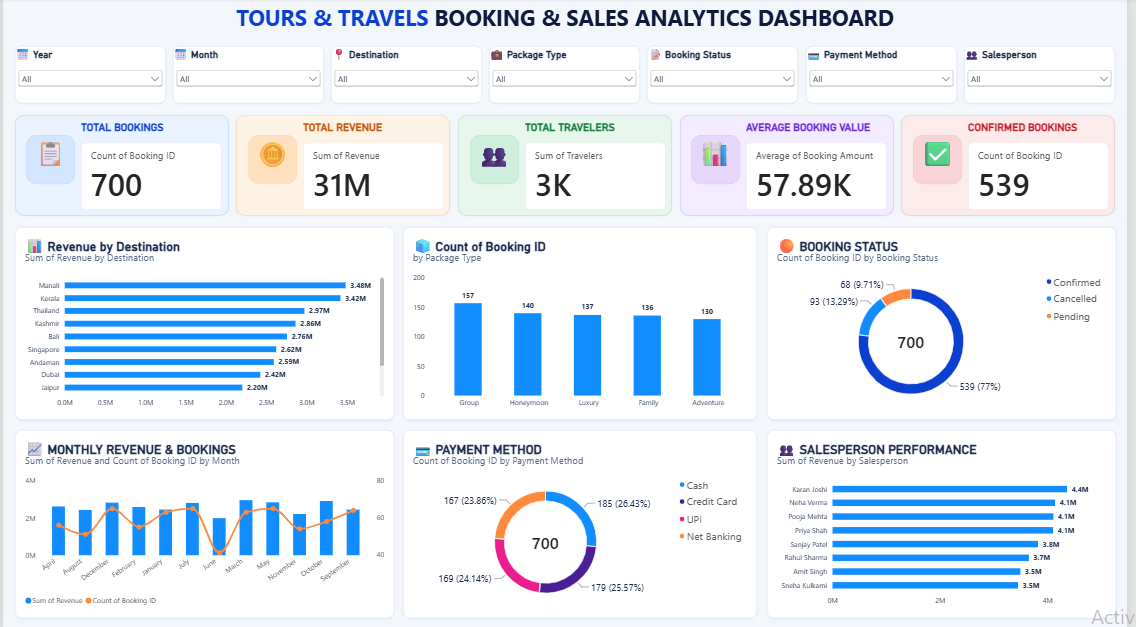

Layout of this report page (visuals, bound fields, positions):
{"tool":"powerbi","page":{"name":"Page 1","canvas":[1920,1080],"ordinal":0},"visuals":[{"type":"textbox","box":[20,8,1880,62],"z":1000},{"type":"textbox","box":[20,200,364.8,172],"z":2000},{"type":"textbox","box":[40,234,84,84],"z":2001},{"type":"textbox","box":[398.8,200,364.8,172],"z":2010},{"type":"textbox","box":[418.8,234,84,84],"z":2011},{"type":"textbox","box":[777.6,200,364.8,172],"z":2020},{"type":"textbox","box":[797.6,234,84,84],"z":2021},{"type":"textbox","box":[1156.4,200,364.8,172],"z":2030},{"type":"textbox","box":[1176.4,234,84,84],"z":2031},{"type":"textbox","box":[1535.2,200,364.8,172],"z":2040},{"type":"textbox","box":[1555.2,234,84,84],"z":2041},{"type":"cardVisual","title":"TOTAL BOOKINGS","fields":{"Data":["CountNonNull(Tours & Travels Dashboard.Booking ID)"]},"box":[134,210,240.8,152],"z":3000},{"type":"cardVisual","title":"TOTAL REVENUE","fields":{"Data":["Sum(Tours & Travels Dashboard.Revenue)"]},"box":[512.8,210,240.8,152],"z":3001},{"type":"cardVisual","title":"TOTAL TRAVELERS","fields":{"Data":["Sum(Tours & Travels Dashboard.Travelers)"]},"box":[891.6,210,240.8,152],"z":3002},{"type":"cardVisual","title":"AVERAGE BOOKING VALUE","fields":{"Data":["Avg(Tours & Travels Dashboard.Booking Amount)"]},"box":[1270.4,210,240.8,152],"z":3003},{"type":"cardVisual","title":"CONFIRMED BOOKINGS","fields":{"Data":["CountNonNull(Tours & Travels Dashboard.Booking ID)"]},"box":[1649.2,210,240.8,152],"z":3004},{"type":"clusteredBarChart","title":"📊  Revenue by Destination","fields":{"Category":["Tours & Travels Dashboard.Destination"],"Y":["Sum(Tours & Travels Dashboard.Revenue)"]},"box":[20,392,648,330],"z":4000},{"type":"clusteredColumnChart","title":"🧊  Count of Booking ID","fields":{"Category":["Tours & Travels Dashboard.Package Type"],"Y":["CountNonNull(Tours & Travels Dashboard.Booking ID)"]},"box":[684,392,605,330],"z":4001},{"type":"donutChart","title":"🟠  BOOKING STATUS","fields":{"Category":["Tours & Travels Dashboard.Booking Status"],"Y":["CountNonNull(Tours & Travels Dashboard.Booking ID)"]},"box":[1305,392,597,330],"z":4002},{"type":"lineClusteredColumnComboChart","title":"📈  MONTHLY REVENUE & BOOKINGS","fields":{"Category":["Tours & Travels Dashboard.Month"],"Y":["Sum(Tours & Travels Dashboard.Revenue)"],"Y2":["CountNonNull(Tours & Travels Dashboard.Booking ID)"]},"box":[20,738,648,322],"z":4003},{"type":"donutChart","title":"💳  PAYMENT METHOD","fields":{"Category":["Tours & Travels Dashboard.Payment Method"],"Y":["CountNonNull(Tours & Travels Dashboard.Booking ID)"]},"box":[684,738,605,322],"z":4004},{"type":"clusteredBarChart","title":"👥  SALESPERSON PERFORMANCE","fields":{"Category":["Tours & Travels Dashboard.Salesperson"],"Y":["Sum(Tours & Travels Dashboard.Revenue)"]},"box":[1305,738,597,322],"z":4005},{"type":"slicer","title":"📅  Year","fields":{"Values":["Tours & Travels Dashboard.Year"]},"box":[20,82,258.3,98],"z":19000},{"type":"slicer","title":"📅  Month","fields":{"Values":["Tours & Travels Dashboard.Month"]},"box":[290.3,82,258.3,98],"z":19001},{"type":"slicer","title":"📍  Destination","fields":{"Values":["Tours & Travels Dashboard.Destination"]},"box":[560.6,82,258.3,98],"z":19002},{"type":"slicer","title":"💼  Package Type","fields":{"Values":["Tours & Travels Dashboard.Package Type"]},"box":[830.9,82,258.3,98],"z":19003},{"type":"slicer","title":"📝  Booking Status","fields":{"Values":["Tours & Travels Dashboard.Booking Status"]},"box":[1101.1,82,258.3,98],"z":19004},{"type":"slicer","title":"💳  Payment Method","fields":{"Values":["Tours & Travels Dashboard.Payment Method"]},"box":[1371.4,82,258.3,98],"z":19005},{"type":"slicer","title":"👥  Salesperson","fields":{"Values":["Tours & Travels Dashboard.Salesperson"]},"box":[1641.7,82,258.3,98],"z":19006}]}

Visuals, with their boxes in screenshot pixels (x1, y1, x2, y2), scaled from the page's 1920x1080 canvas onto the 1136x627 screenshot:
textbox: detection(12, 5, 1124, 41)
textbox: detection(12, 116, 228, 216)
textbox: detection(24, 136, 73, 185)
textbox: detection(236, 116, 452, 216)
textbox: detection(248, 136, 297, 185)
textbox: detection(460, 116, 676, 216)
textbox: detection(472, 136, 522, 185)
textbox: detection(684, 116, 900, 216)
textbox: detection(696, 136, 746, 185)
textbox: detection(908, 116, 1124, 216)
textbox: detection(920, 136, 970, 185)
"TOTAL BOOKINGS" cardVisual: detection(79, 122, 222, 210)
"TOTAL REVENUE" cardVisual: detection(303, 122, 446, 210)
"TOTAL TRAVELERS" cardVisual: detection(528, 122, 670, 210)
"AVERAGE BOOKING VALUE" cardVisual: detection(752, 122, 894, 210)
"CONFIRMED BOOKINGS" cardVisual: detection(976, 122, 1118, 210)
"📊  Revenue by Destination" clusteredBarChart: detection(12, 228, 395, 419)
"🧊  Count of Booking ID" clusteredColumnChart: detection(405, 228, 763, 419)
"🟠  BOOKING STATUS" donutChart: detection(772, 228, 1125, 419)
"📈  MONTHLY REVENUE & BOOKINGS" lineClusteredColumnComboChart: detection(12, 428, 395, 615)
"💳  PAYMENT METHOD" donutChart: detection(405, 428, 763, 615)
"👥  SALESPERSON PERFORMANCE" clusteredBarChart: detection(772, 428, 1125, 615)
"📅  Year" slicer: detection(12, 48, 165, 105)
"📅  Month" slicer: detection(172, 48, 325, 105)
"📍  Destination" slicer: detection(332, 48, 485, 105)
"💼  Package Type" slicer: detection(492, 48, 644, 105)
"📝  Booking Status" slicer: detection(651, 48, 804, 105)
"💳  Payment Method" slicer: detection(811, 48, 964, 105)
"👥  Salesperson" slicer: detection(971, 48, 1124, 105)
